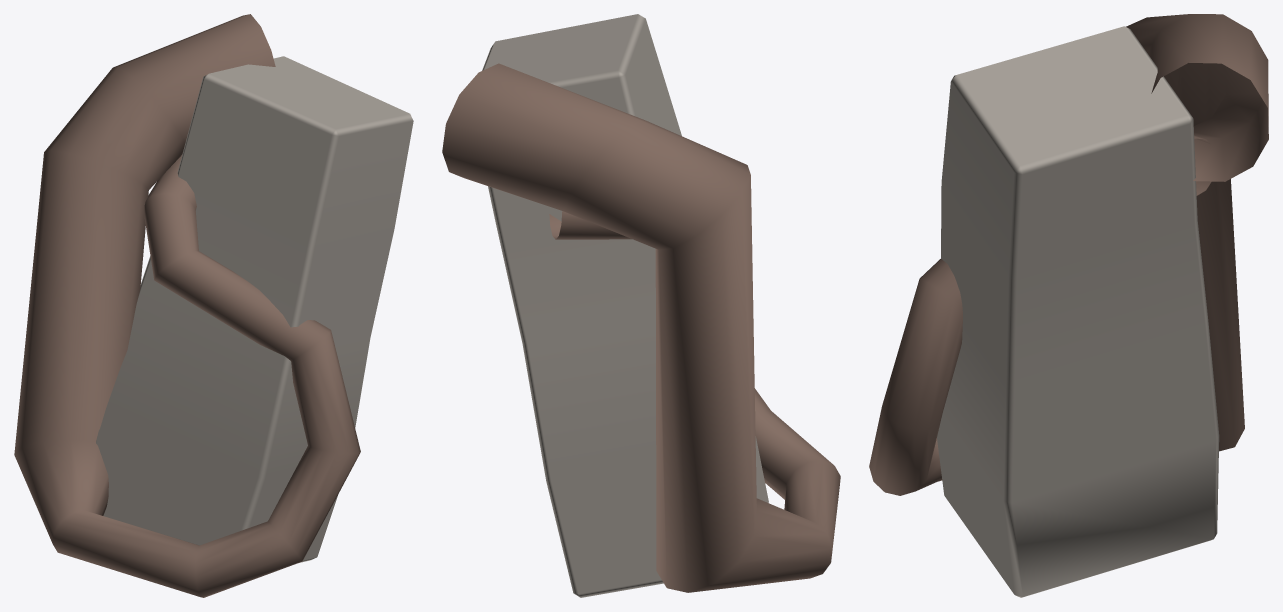
File: MSH_Corner_02.fbx
The picture shows the model from 3 angles, left to right: view 1: azimuth 30°, elevation 25°; view 2: azimuth 150°, elevation 25°; view 3: azimuth 270°, elevation 25°; orthographic projection. The views are drawn at different scales.
Parts seen in each view (by area): view 1: MSH_Corner_02; view 2: MSH_Corner_02; view 3: MSH_Corner_02.
Boxes of the visible parts, x1=… form: MSH_Corner_02: x1=14, y1=14, x2=413, y2=597; MSH_Corner_02: x1=442, y1=14, x2=840, y2=597; MSH_Corner_02: x1=869, y1=14, x2=1268, y2=597.
Bounding box in the file's own units: 510 × 696 × 459.
